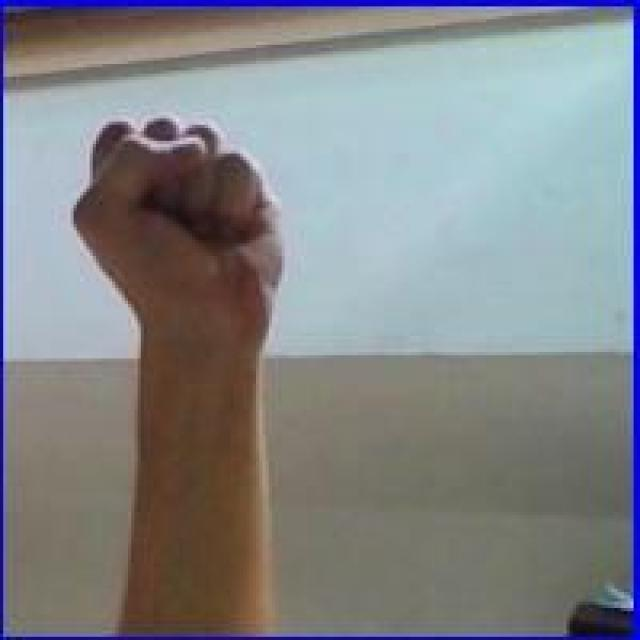S: (64, 110, 291, 350)
